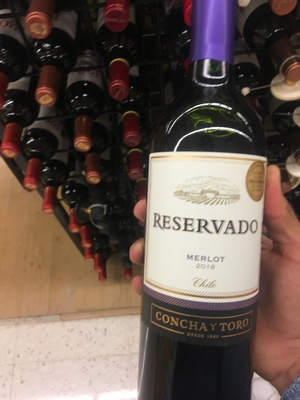reservado merlot: (135, 7, 282, 400)
